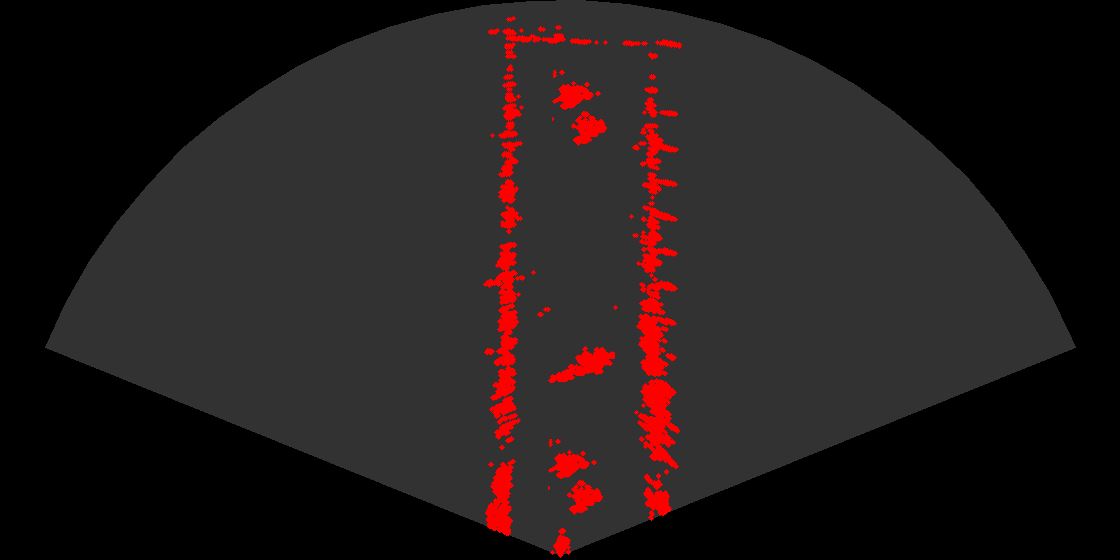cage: (548, 439, 611, 523), (552, 70, 615, 154)
frogman: (547, 340, 615, 387)
